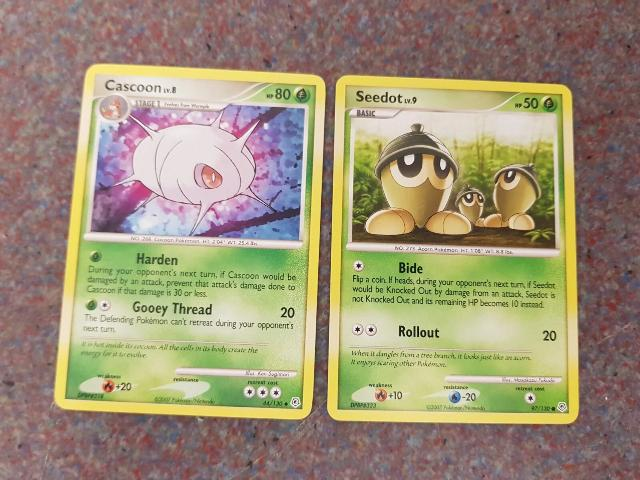Card: (49, 58, 329, 423), (324, 71, 583, 428)
Name: (101, 74, 164, 98), (352, 85, 404, 109)
